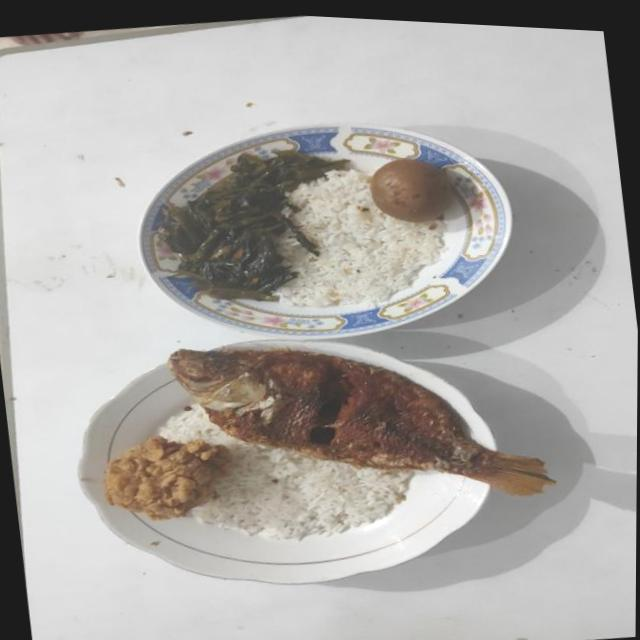ikan_mujair: (168, 347, 554, 495)
nasi_putih: (160, 404, 414, 540), (278, 170, 447, 308)
tumis_kangkung: (160, 148, 348, 300)
